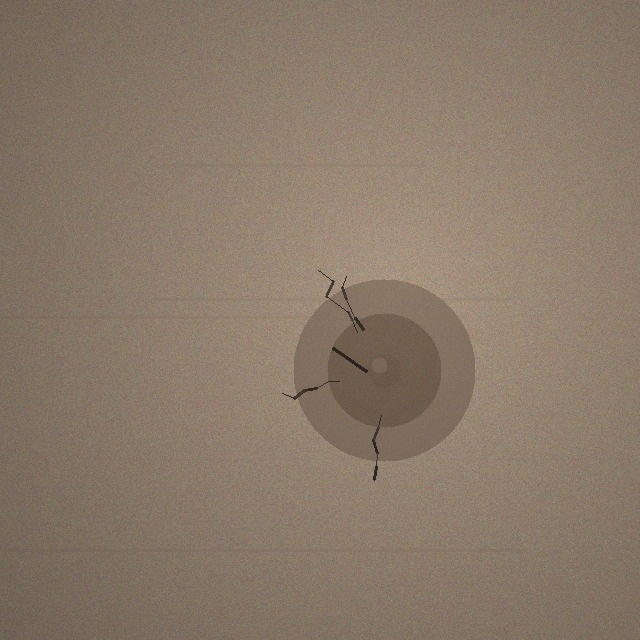crack: (293, 279, 475, 461)
